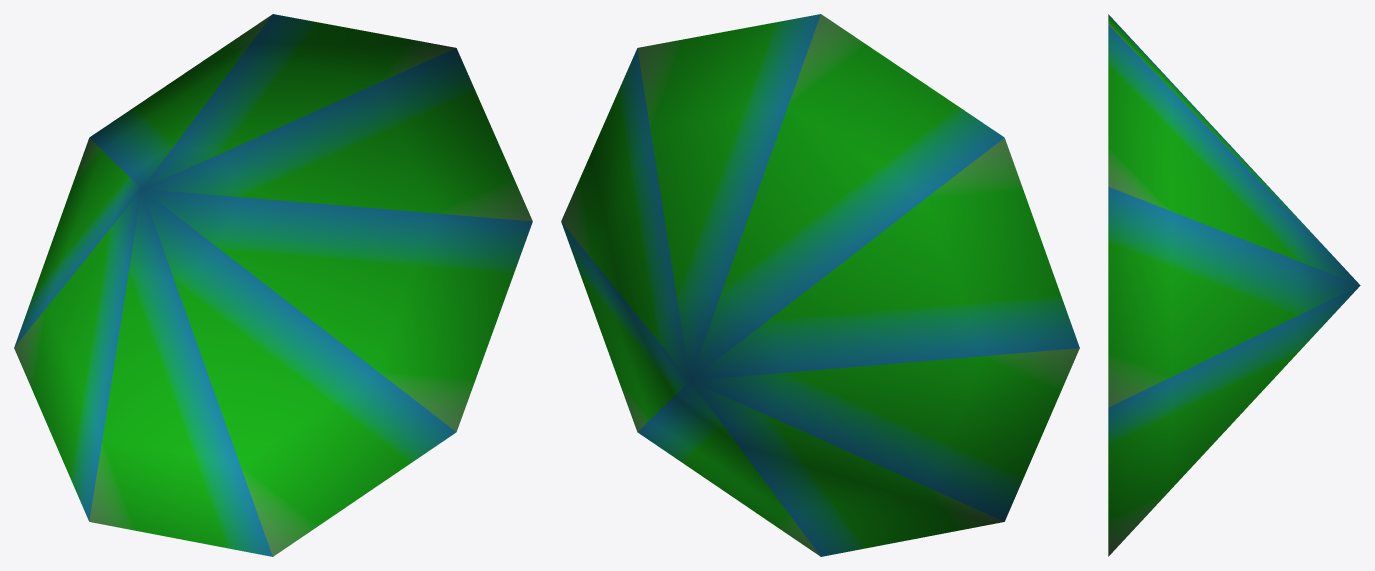
3 renders of one model, left to right at view 1: azimuth 30°, elevation 25°; view 2: azimuth 150°, elevation 25°; view 3: azimuth 270°, elevation 25°, orthographic. The views are drawn at different scales.
Parts seen in each view (by area): view 1: T1L4M003_6; view 2: T1L4M003_6; view 3: T1L4M003_6.
Boxes of the visible parts, x1,y1,x2,y2 form: T1L4M003_6: (14,14,532,556); T1L4M003_6: (561,14,1079,556); T1L4M003_6: (1108,14,1360,556).
Bounding box in the file's own units: 0.458 × 0.458 × 0.2002.
